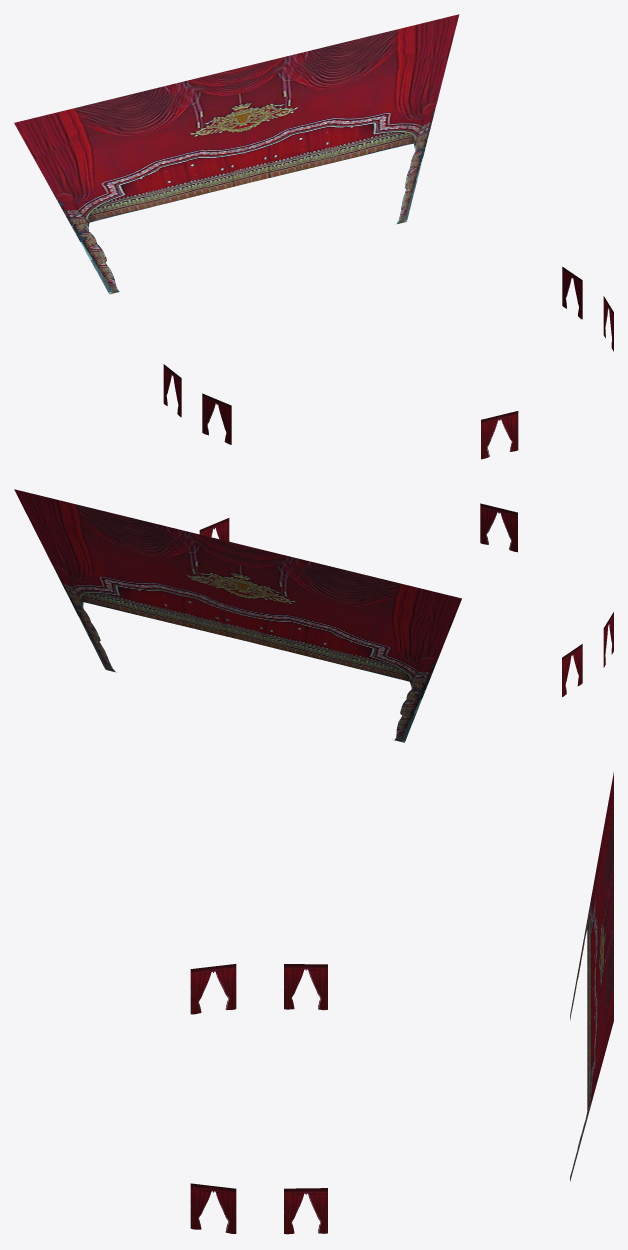
The model's file is tende e sipario (2).fbx.
3 renders of one model, top to bottom at view 1: azimuth 30°, elevation 25°; view 2: azimuth 150°, elevation 25°; view 3: azimuth 270°, elevation 25°, orthographic. The views are drawn at different scales.
Parts seen in each view (by area): view 1: sipario aprerto, porte famiglie; view 2: sipario aprerto, porte famiglie; view 3: sipario aprerto, porte famiglie.
Boxes of the visible parts, x1,y1,x2,y2 form: sipario aprerto: (14,14,459,294); porte famiglie: (163,266,613,459); sipario aprerto: (14,489,461,742); porte famiglie: (199,503,613,696); sipario aprerto: (570,772,613,1181); porte famiglie: (190,964,327,1234).
Size of the model in its own units: 6061 by 2561 by 6156.
Materials: 2 (2 with a texture image).
